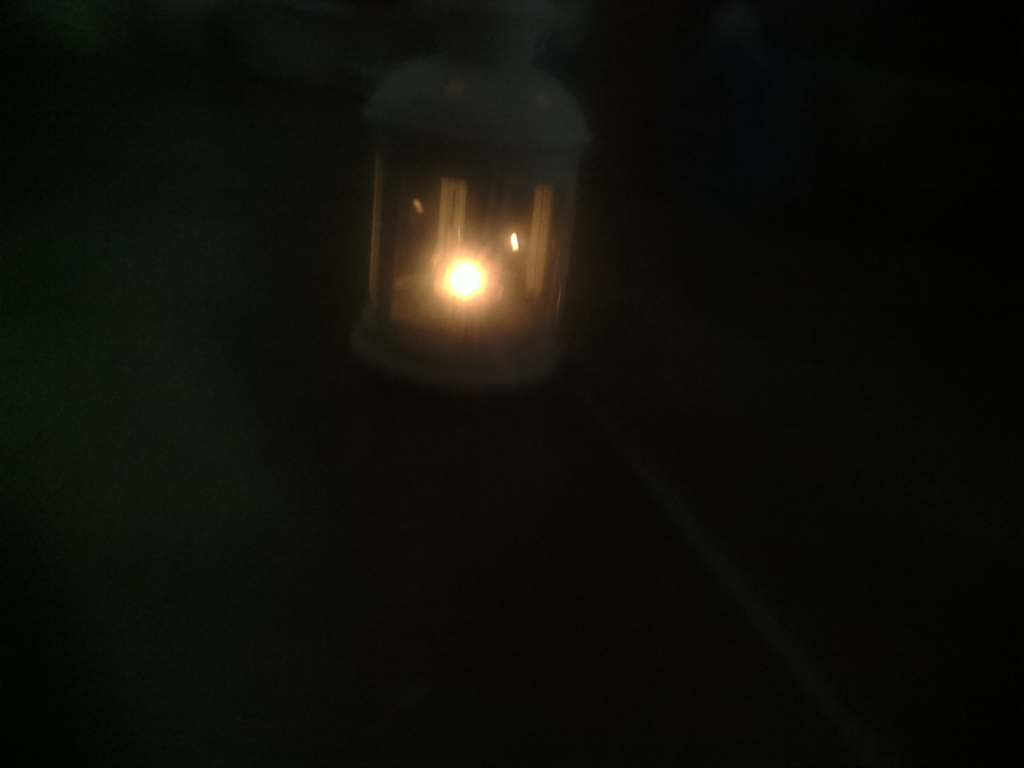fire: (386, 223, 533, 324)
